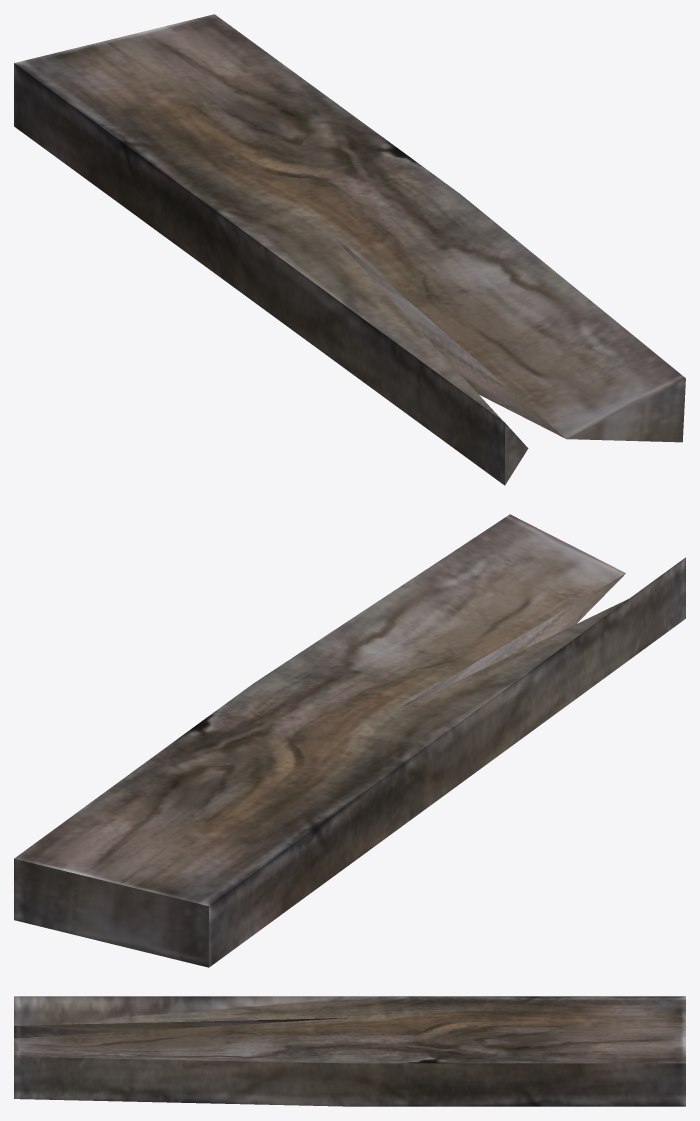
File: pir_m_prp_shn_debris_boardB.fbx
3 renders of one model, top to bottom at view 1: azimuth 30°, elevation 25°; view 2: azimuth 150°, elevation 25°; view 3: azimuth 270°, elevation 25°, orthographic. The views are drawn at different scales.
Parts seen in each view (by area): view 1: lod_high; view 2: lod_high; view 3: lod_high.
Boxes of the visible parts, x1,y1,x2,y2 form: lod_high: [14, 14, 685, 485]; lod_high: [14, 514, 685, 967]; lod_high: [14, 996, 685, 1106].
Bounding box in the file's own units: 100 × 30.11 × 424.
1 material, 1 textured.
